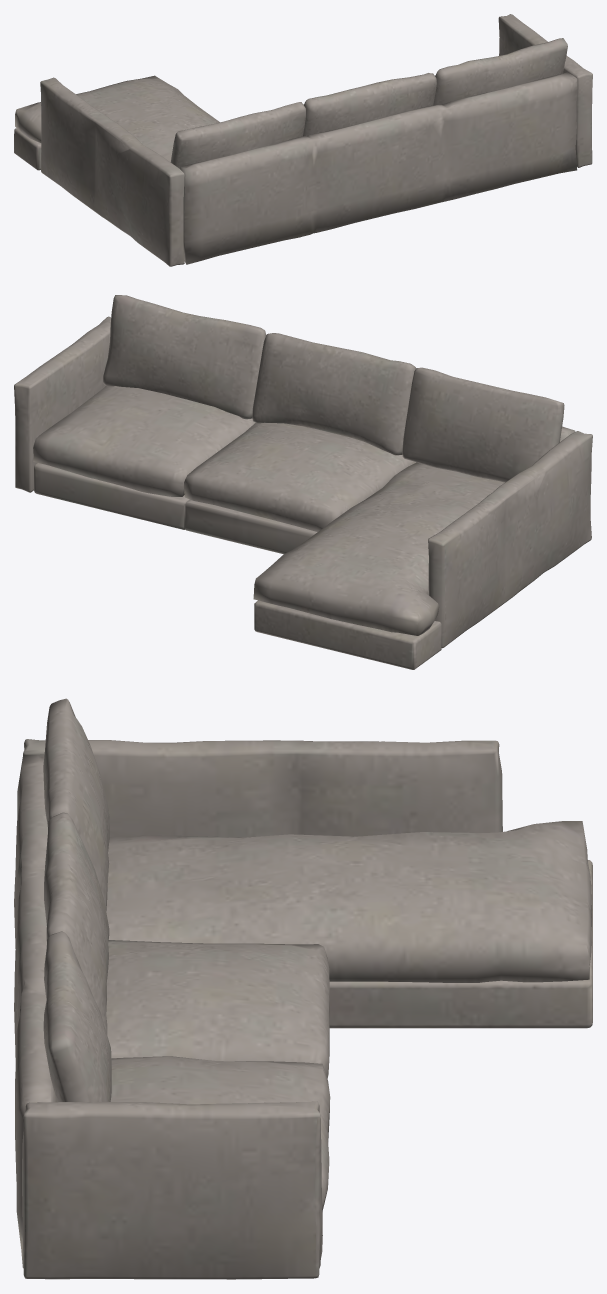
File: sofa_corner.glb
3 renders of one model, top to bottom at view 1: azimuth 30°, elevation 25°; view 2: azimuth 150°, elevation 25°; view 3: azimuth 270°, elevation 25°, orthographic. The views are drawn at different scales.
Bounding box in the file's own units: 3.07 × 0.8616 × 1.97.
Materials: 1 (1 with a texture image).
